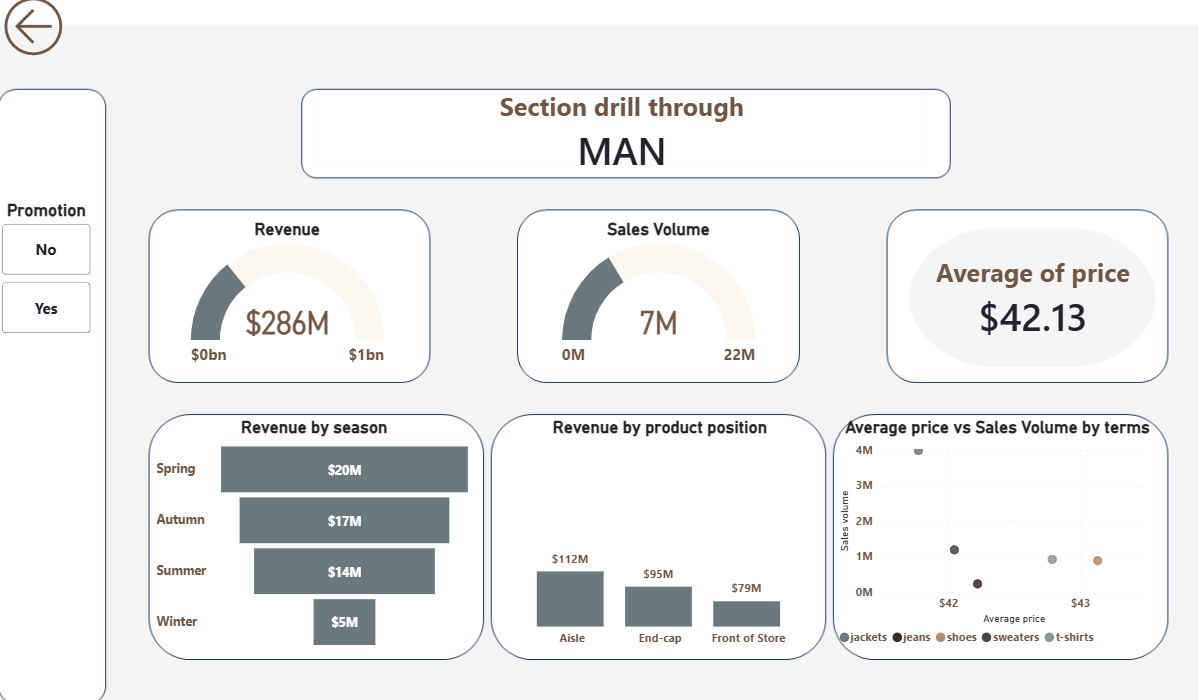

What the dashboard file says about the page in this screenshot:
{"tool":"powerbi","page":{"name":"DRILL THROUGH","canvas":[1280,800],"ordinal":2},"visuals":[{"type":"gauge","title":"Sales Volume","fields":{"Y":["Sum(Business_sales_EDA.Sales Volume)"]},"box":[561.8,243.5,280.1,163.9],"z":0},{"type":"actionButton","box":[0,0,104.8,77.1],"z":1000},{"type":"gauge","fields":{"Y":["Business_sales_EDA.Revenue"]},"box":[163.9,243.5,288.1,163.9],"z":2000},{"type":"scatterChart","title":"Average price vs Sales Volume by terms","fields":{"Category":["Business_sales_EDA.section"],"Y":["Sum(Business_sales_EDA.Sales Volume)"],"X":["Avg(Business_sales_EDA.price)"],"Series":["Business_sales_EDA.terms"]},"box":[888.1,453.6,347,251.5],"z":3000},{"type":"columnChart","title":"Revenue by product position","fields":{"Category":["Business_sales_EDA.Product Position"],"Y":["Business_sales_EDA.Revenue"]},"box":[530,453.6,347,251.5],"z":4000},{"type":"cardVisual","fields":{"Data":["Avg(Business_sales_EDA.price)"]},"box":[950.2,235.5,296,181.4],"z":5000},{"type":"funnel","fields":{"Category":["Business_sales_EDA.season"],"Y":["Business_sales_EDA.Revenue"]},"box":[163.9,453.6,345.4,251.5],"z":6000},{"type":"cardVisual","fields":{"Data":["Min(Business_sales_EDA.section)"]},"box":[321.5,93.9,681.2,111.4],"z":7000},{"type":"advancedSlicerVisual","fields":{"Values":["Business_sales_EDA.Promotion"]},"box":[0,222.3,104.8,146.4],"z":8000}]}

Visuals, with their boxes on the page's 1280x800 design canvas (x1, y1, x2, y2). These are canvas units, not pixel positions in the 1198x700 screenshot, which may show the page scaled, cropped or inside an application window:
"Sales Volume" gauge: bbox=[562, 244, 842, 407]
actionButton: bbox=[0, 0, 105, 77]
gauge - Business_sales_EDA.Revenue: bbox=[164, 244, 452, 407]
"Average price vs Sales Volume by terms" scatterChart: bbox=[888, 454, 1235, 705]
"Revenue by product position" columnChart: bbox=[530, 454, 877, 705]
cardVisual - Avg(Business_sales_EDA.price): bbox=[950, 236, 1246, 417]
funnel - Business_sales_EDA.season x Business_sales_EDA.Revenue: bbox=[164, 454, 509, 705]
cardVisual - Min(Business_sales_EDA.section): bbox=[322, 94, 1003, 205]
advancedSlicerVisual - Business_sales_EDA.Promotion: bbox=[0, 222, 105, 369]
